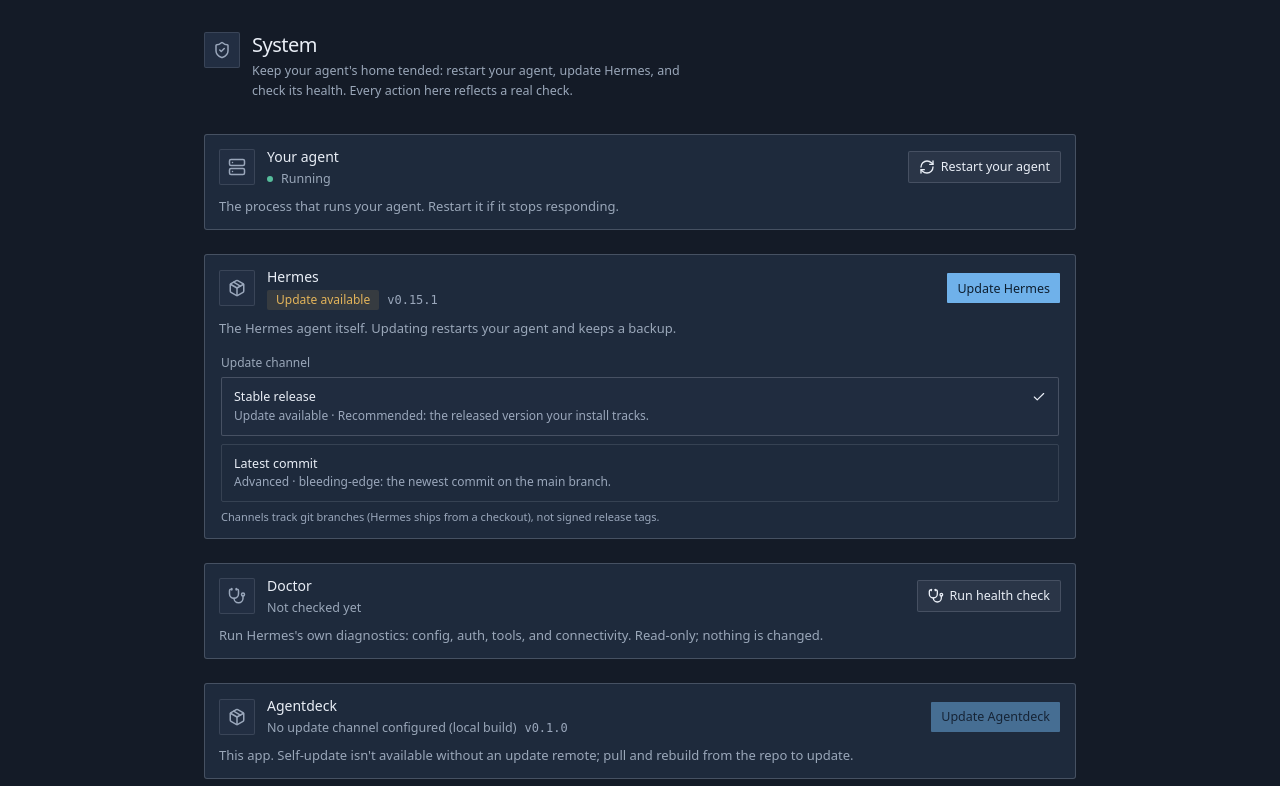
Test: SystemRoute › SCRUBS nothing extra and never echoes a token from the apply result log
Expected: the element "Hermes" is shown, [204,254,1076,539]
Step 1. Click the button "Update Hermes" → (1004, 288), box [946,272,1061,304]
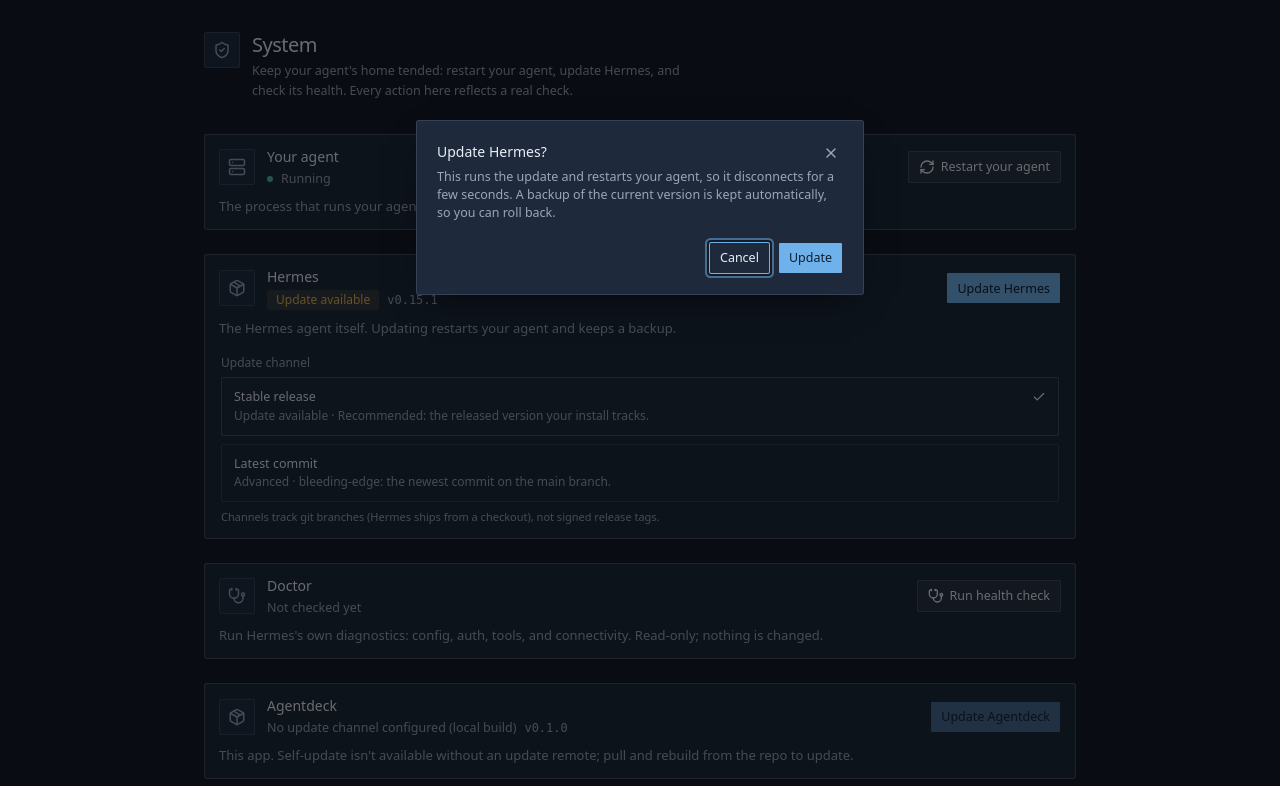
Step 2. Click the button "Update" → (810, 258), box [778,242,843,274]
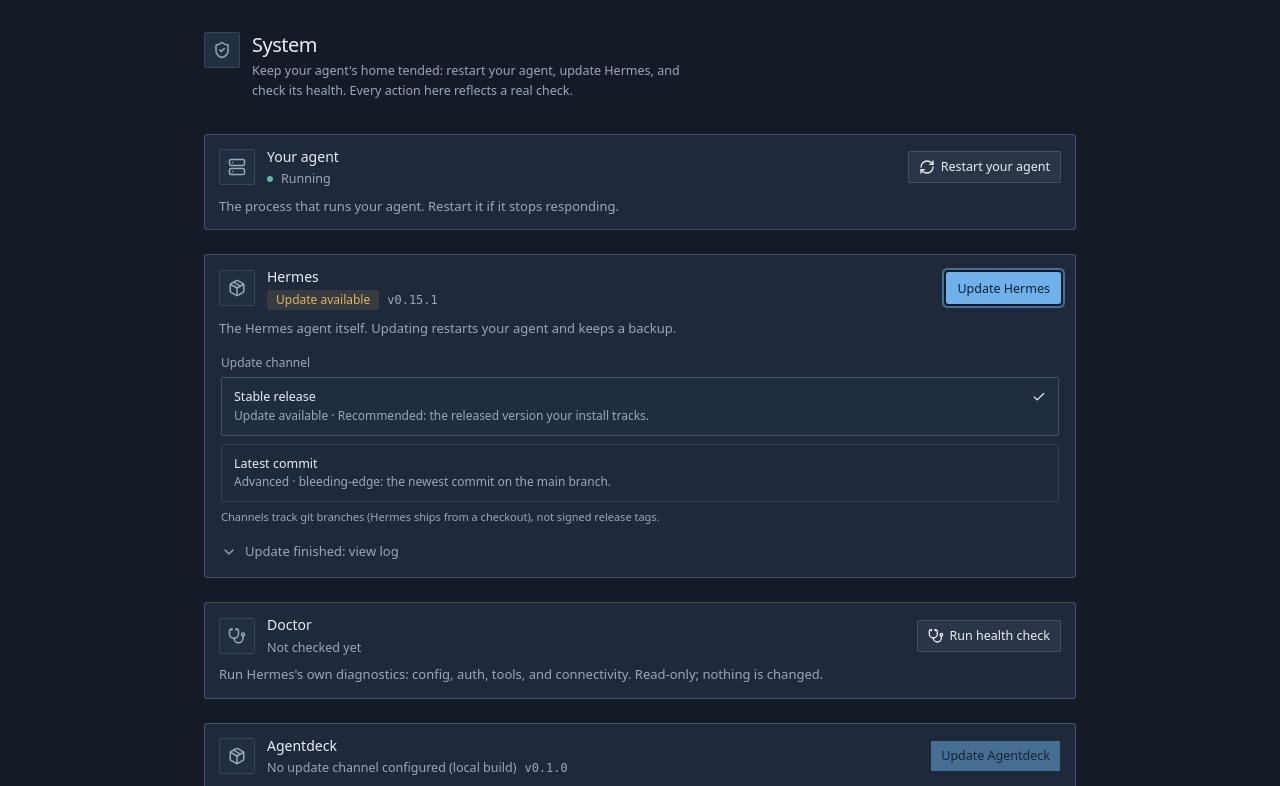
Expected: the button "Update finished: view log" is shown
Step 3. Click the button "Update finished: view log" → (322, 551), box [221,538,1059,565]
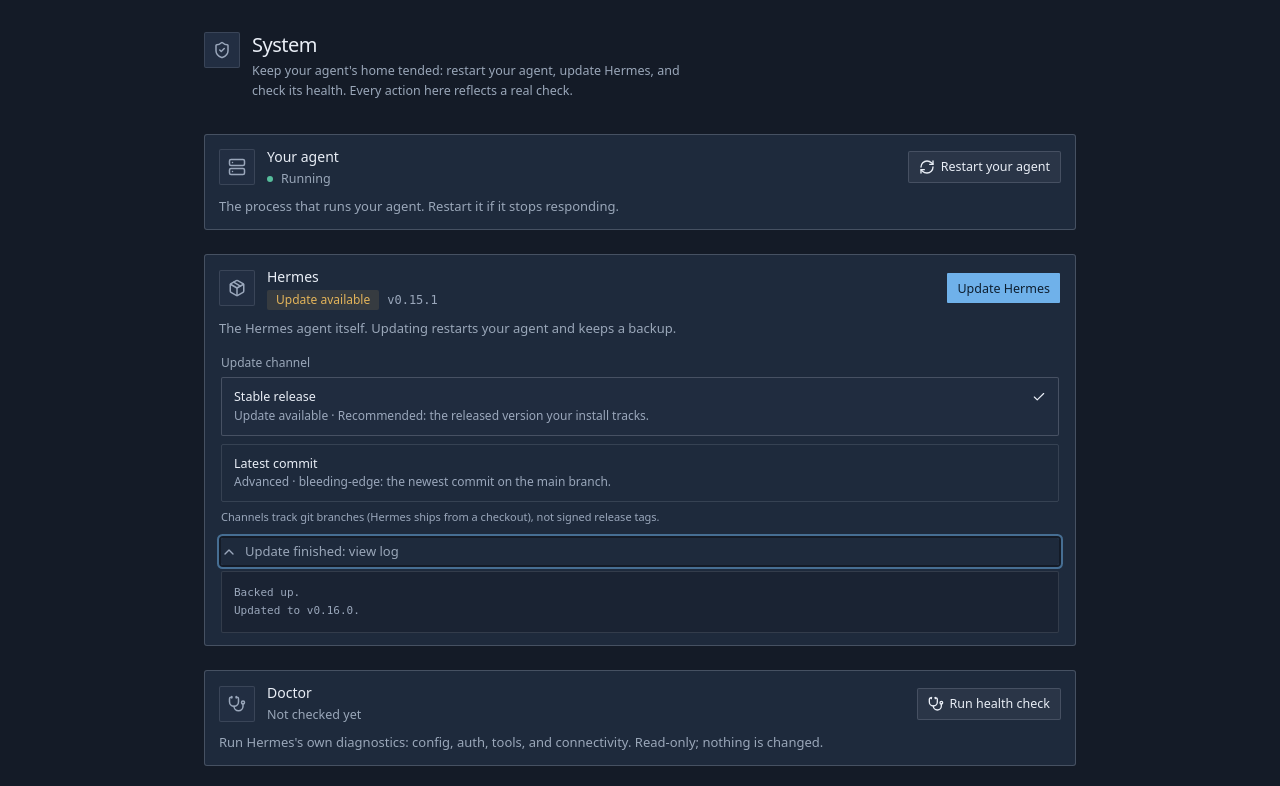
Expected: the text "Backed up. Updated to v0.16.0." is shown, [221,571,1059,633]
